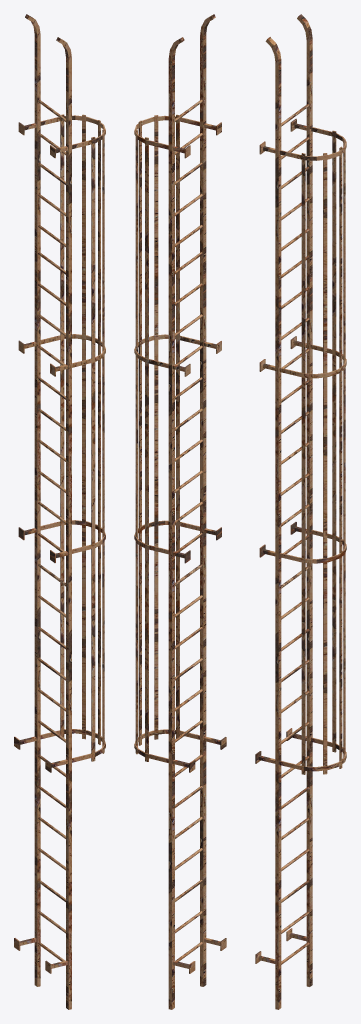
The model's file is ladder_2.fbx.
3 renders of one model, left to right at view 1: azimuth 30°, elevation 25°; view 2: azimuth 150°, elevation 25°; view 3: azimuth 330°, elevation 25°, orthographic.
Parts seen in each view (by area): view 1: Mesh Object; view 2: Mesh Object; view 3: Mesh Object.
Part boxes in pixels (x1,y1,x2,y2): Mesh Object: (14, 14, 105, 1009); Mesh Object: (134, 14, 226, 1009); Mesh Object: (255, 14, 346, 1009).
Bounding box in the file's own units: 0.8295 × 11.2 × 0.7595.
